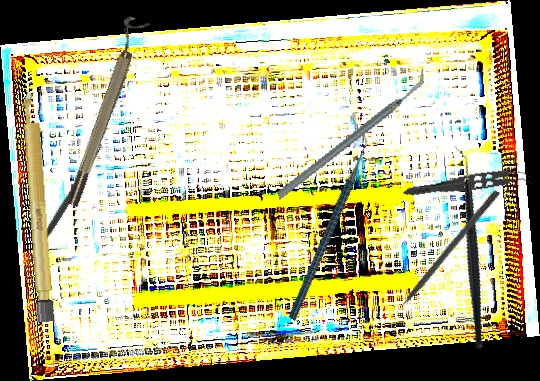Chopper: (233, 126, 421, 322), (400, 144, 536, 351), (256, 69, 447, 200)
Fixation Ring: (55, 14, 152, 209)
Pusher: (385, 188, 501, 323)
Scalpel Handle: (20, 91, 56, 323)
Spatula Surgical: (14, 136, 112, 279)
Tissue Forceps: (402, 163, 533, 208)
